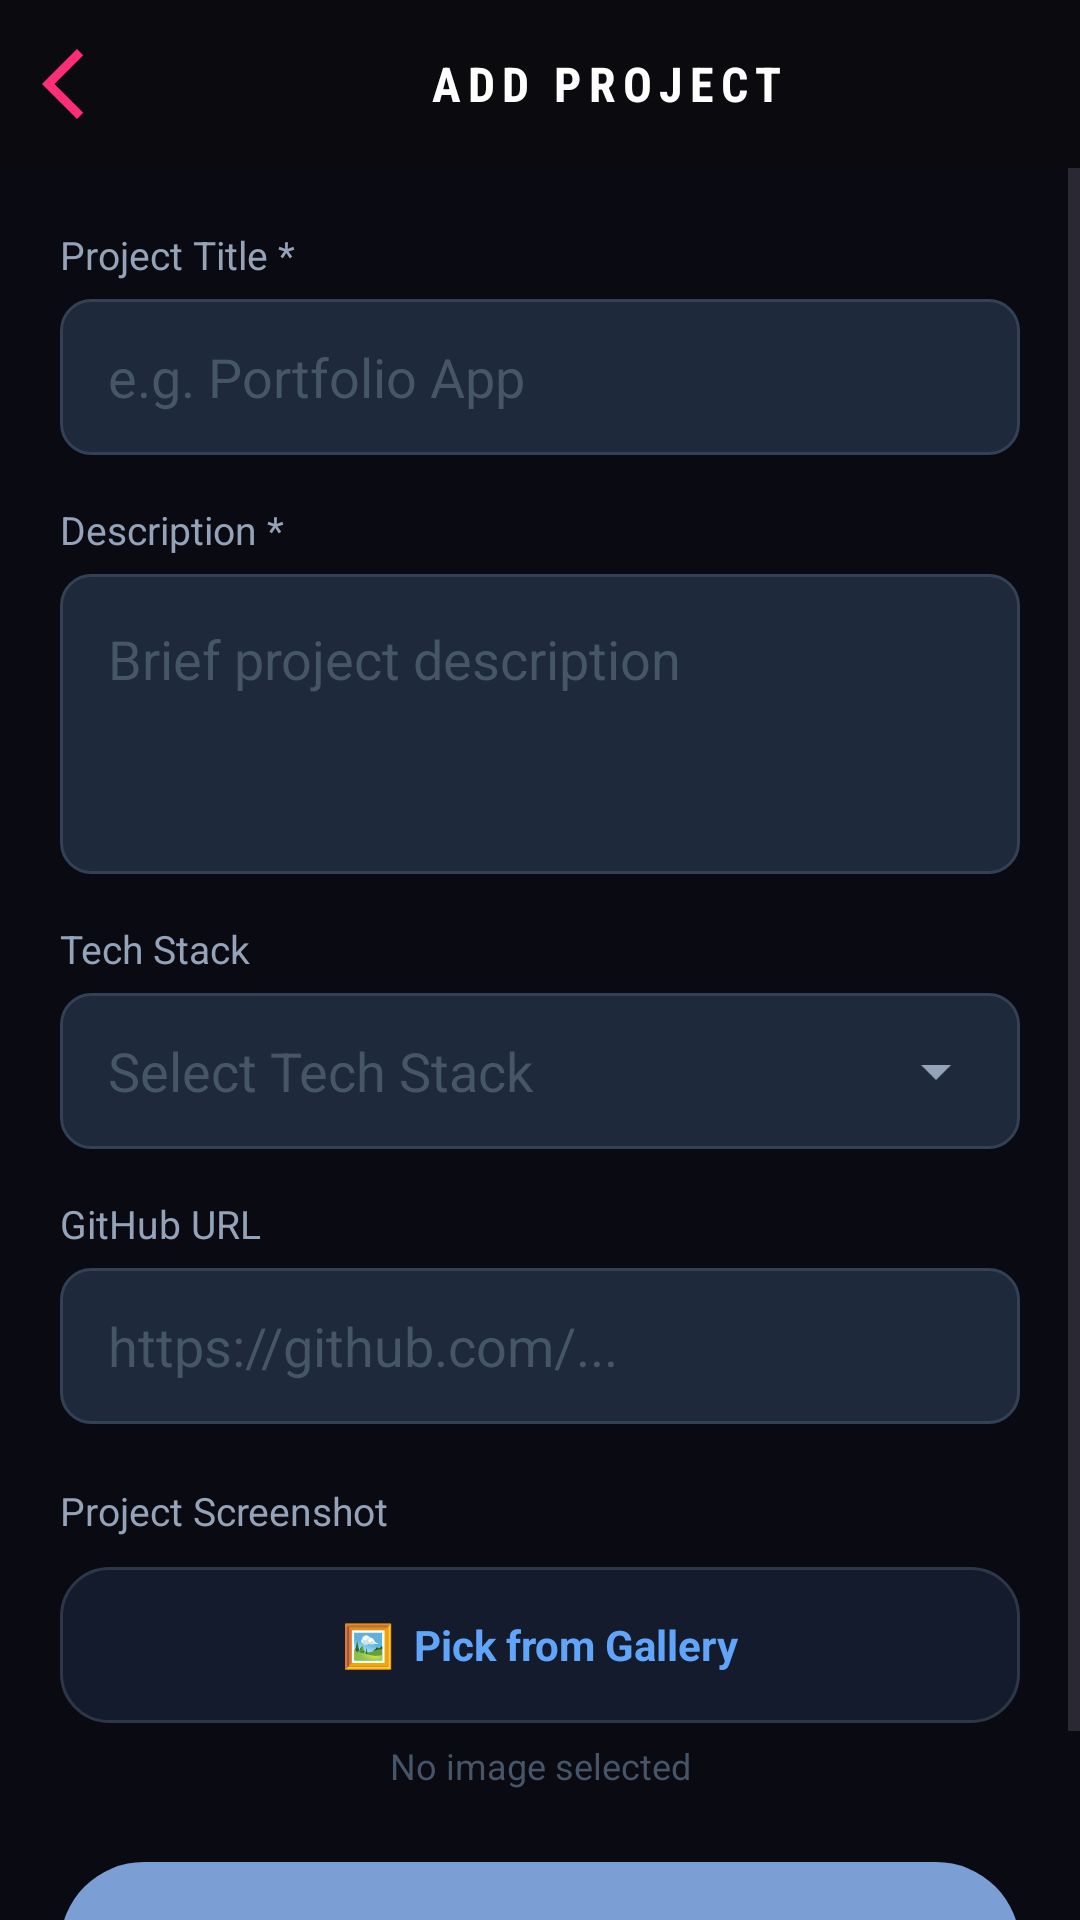

Locate icon controls on the screen. Image size 1080px×1920px, boxes as (x1, y1, x2, y2).
arrow back: (42, 49, 83, 119)
